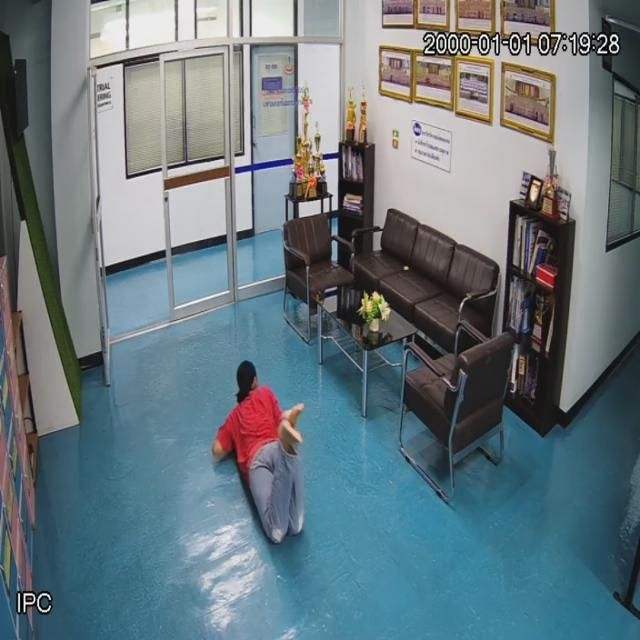fall: (212, 348, 313, 566)
